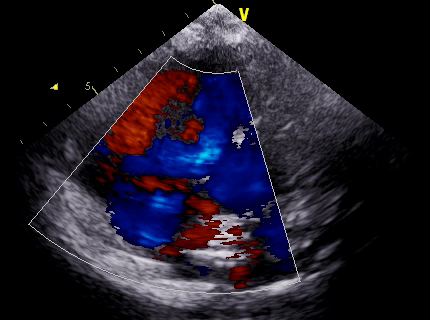TR: (122, 150, 196, 240)
